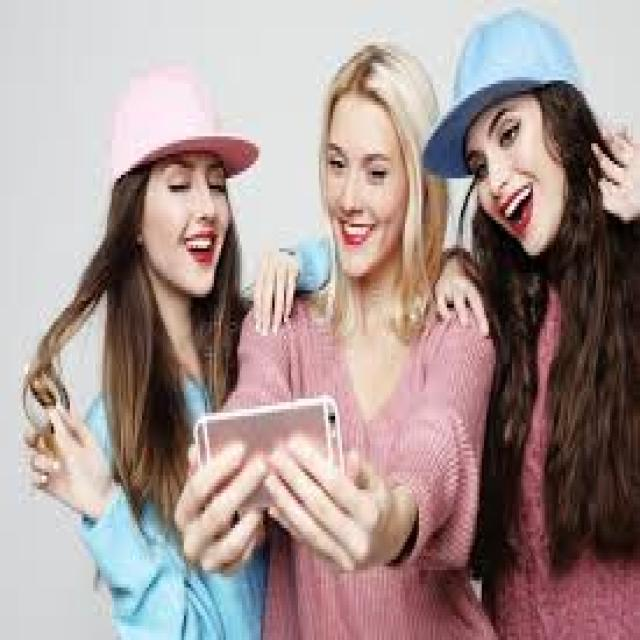cap: (412, 0, 617, 185), (79, 52, 277, 228)
